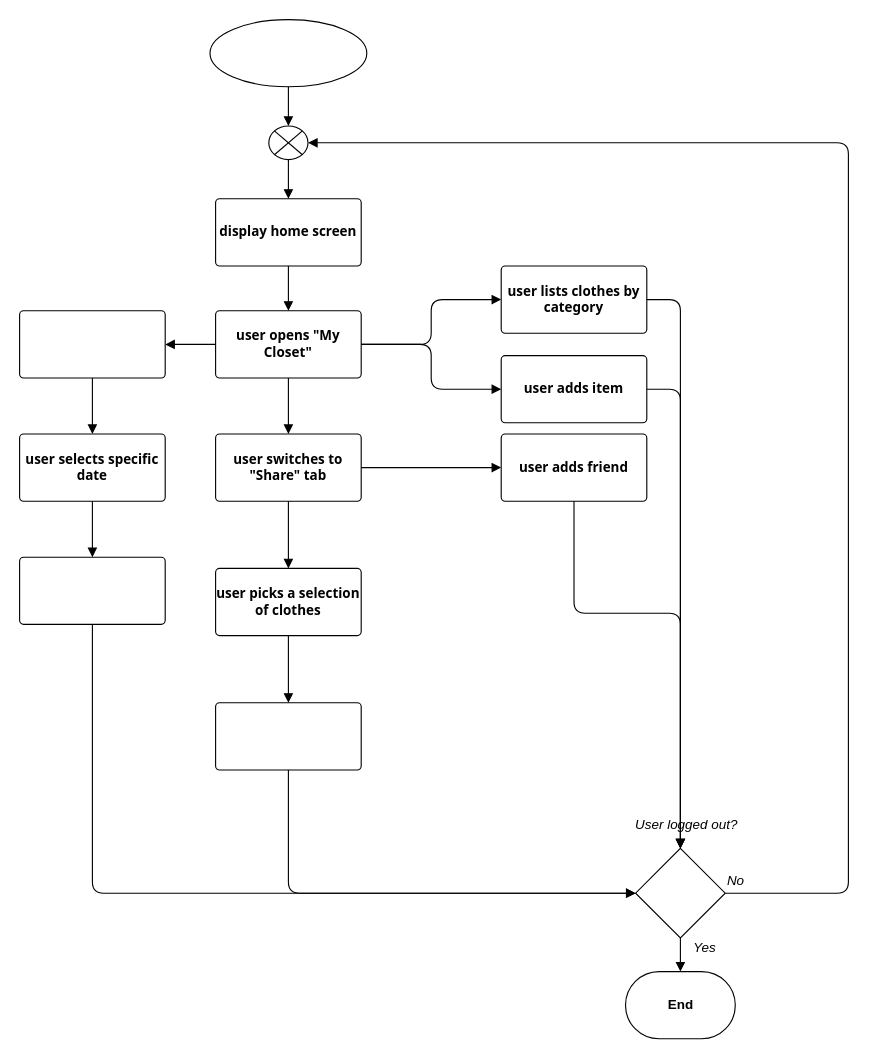
The diagram is 877 pixels wide and 1058 high, and some of its shapes have lost their labels. The shapes that lost their labels are listed below. From the top down, each one's centre as x and y in pixels, then its label:
(288,52): user logs in
(91,344): user switches to "Calendar" tab
(91,590): display clothes worn on that day
(287,736): user shares with friend
